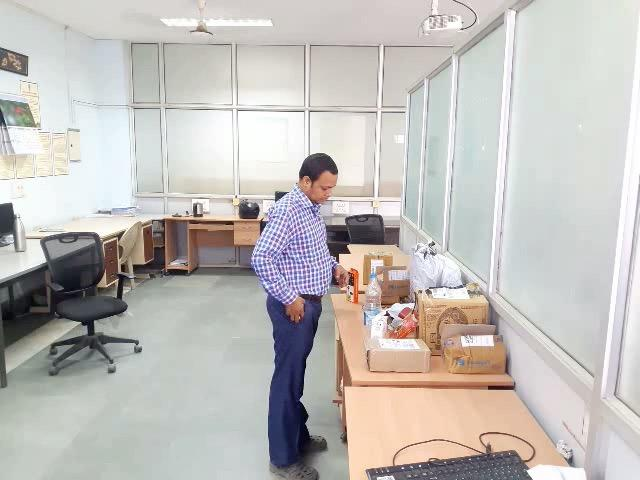shoplifting: (228, 263, 412, 366)
